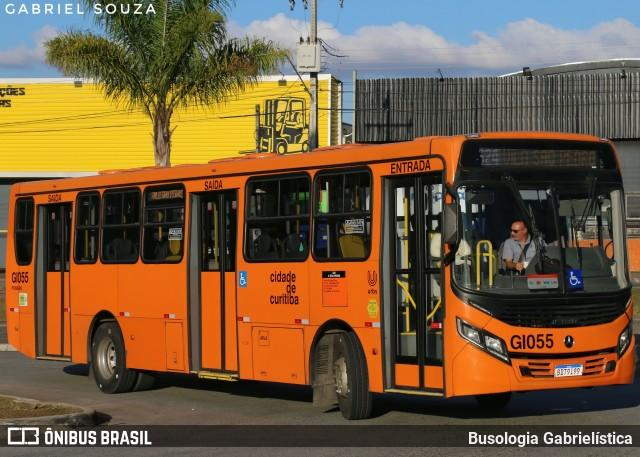VILA SAO PEDRO: (497, 145, 600, 168)
